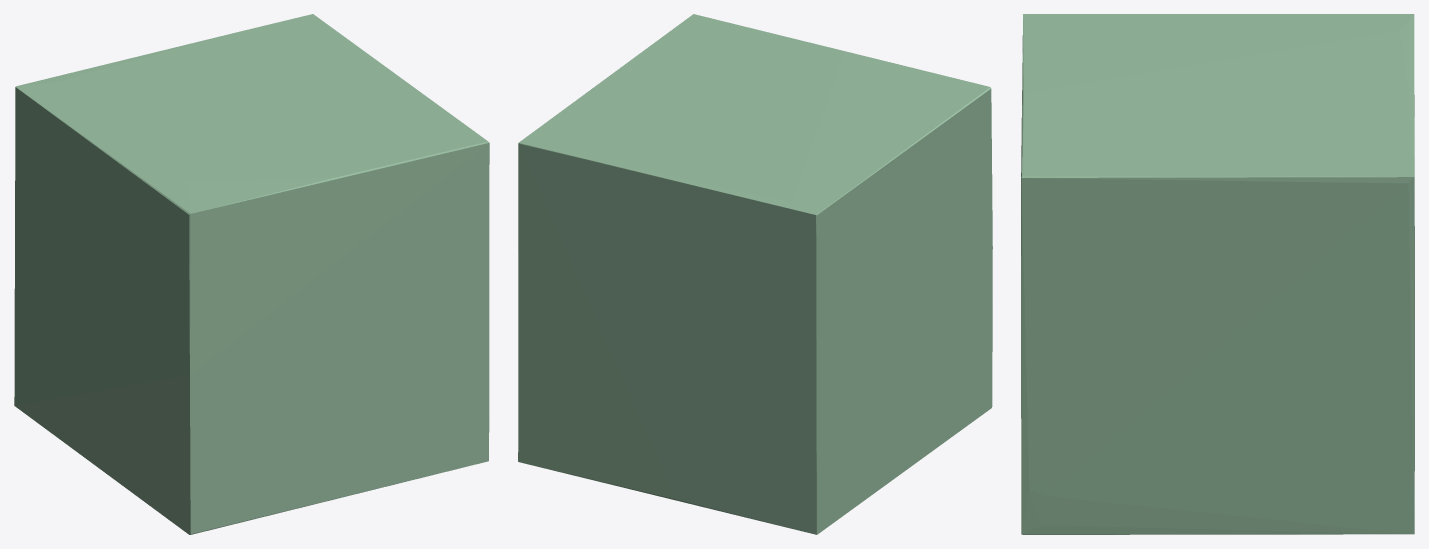
Rendered from box_corrugated_white_a11.glb.
The picture shows the model from 3 angles, left to right: view 1: azimuth 30°, elevation 25°; view 2: azimuth 150°, elevation 25°; view 3: azimuth 270°, elevation 25°; orthographic projection. The views are drawn at different scales.
Visible parts, largest first — view 1: geometry_0; view 2: geometry_0; view 3: geometry_0.
Boxes of the visible parts, x1,y1,x2,y2 form: geometry_0: (14,14,489,534); geometry_0: (518,14,992,534); geometry_0: (1021,14,1414,534).
Size of the model in its own units: 0.469 by 0.4799 by 0.4763.
